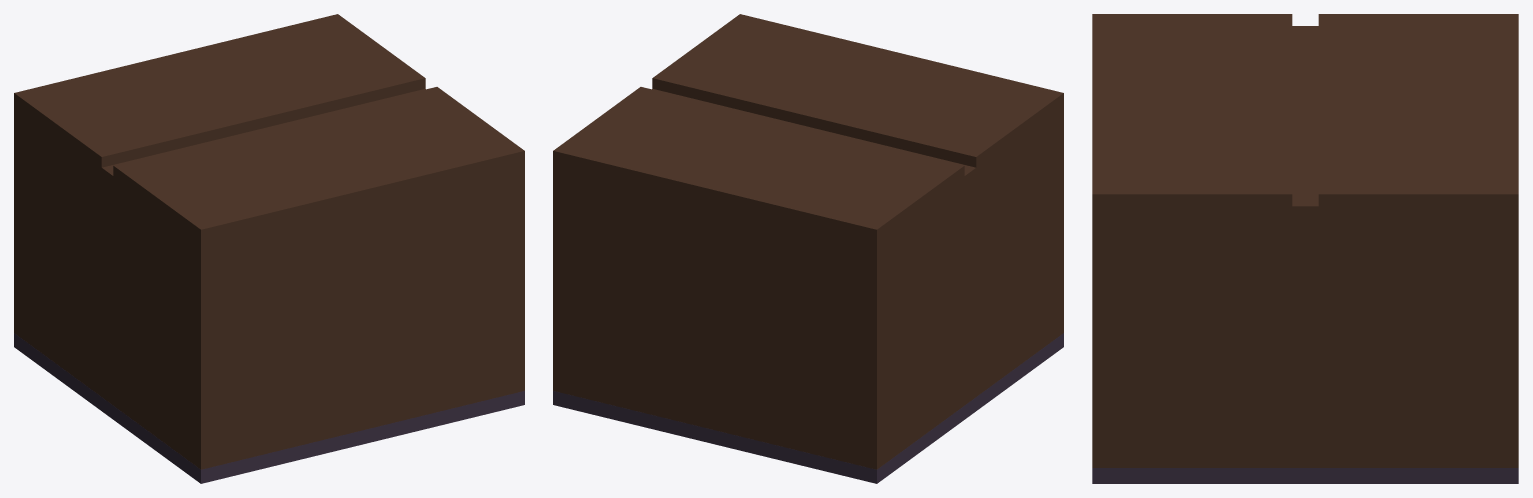
File: storage_boxes1.dae
3 views of the same model, side by side, from view 1: azimuth 30°, elevation 25°; view 2: azimuth 150°, elevation 25°; view 3: azimuth 270°, elevation 25° (orthographic). The views are drawn at different scales.
Visible parts, largest first — view 1: storage_boxes1_MSH; view 2: storage_boxes1_MSH; view 3: storage_boxes1_MSH.
Part boxes in pixels (left/top/right/bottom): storage_boxes1_MSH: left=14, top=14, right=524, bottom=483; storage_boxes1_MSH: left=553, top=14, right=1063, bottom=483; storage_boxes1_MSH: left=1092, top=14, right=1518, bottom=483.
Size of the model in its own units: 1 by 0.75 by 1.
